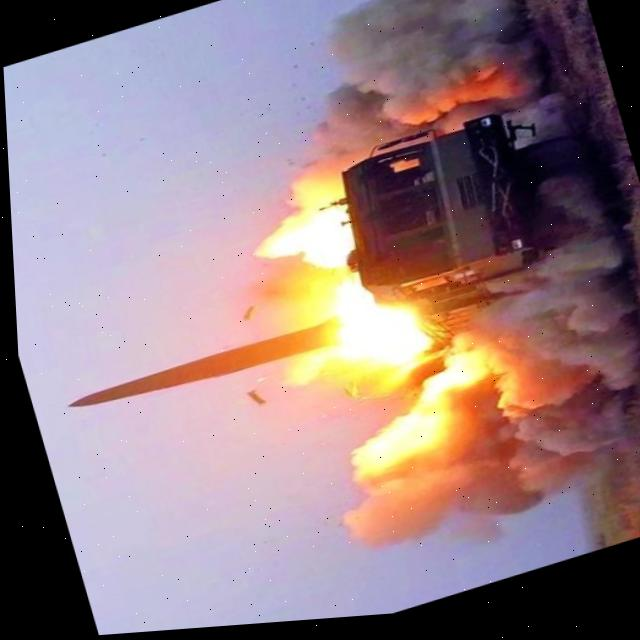missile: (56, 316, 332, 426)
